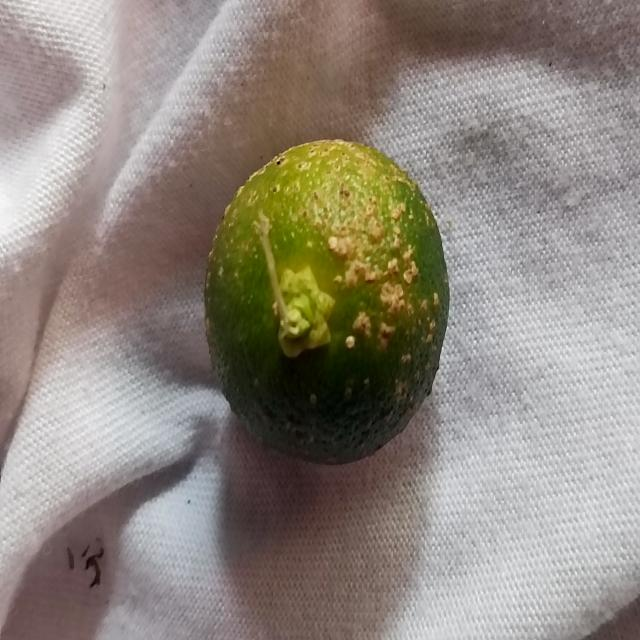scab: (206, 142, 458, 454)
